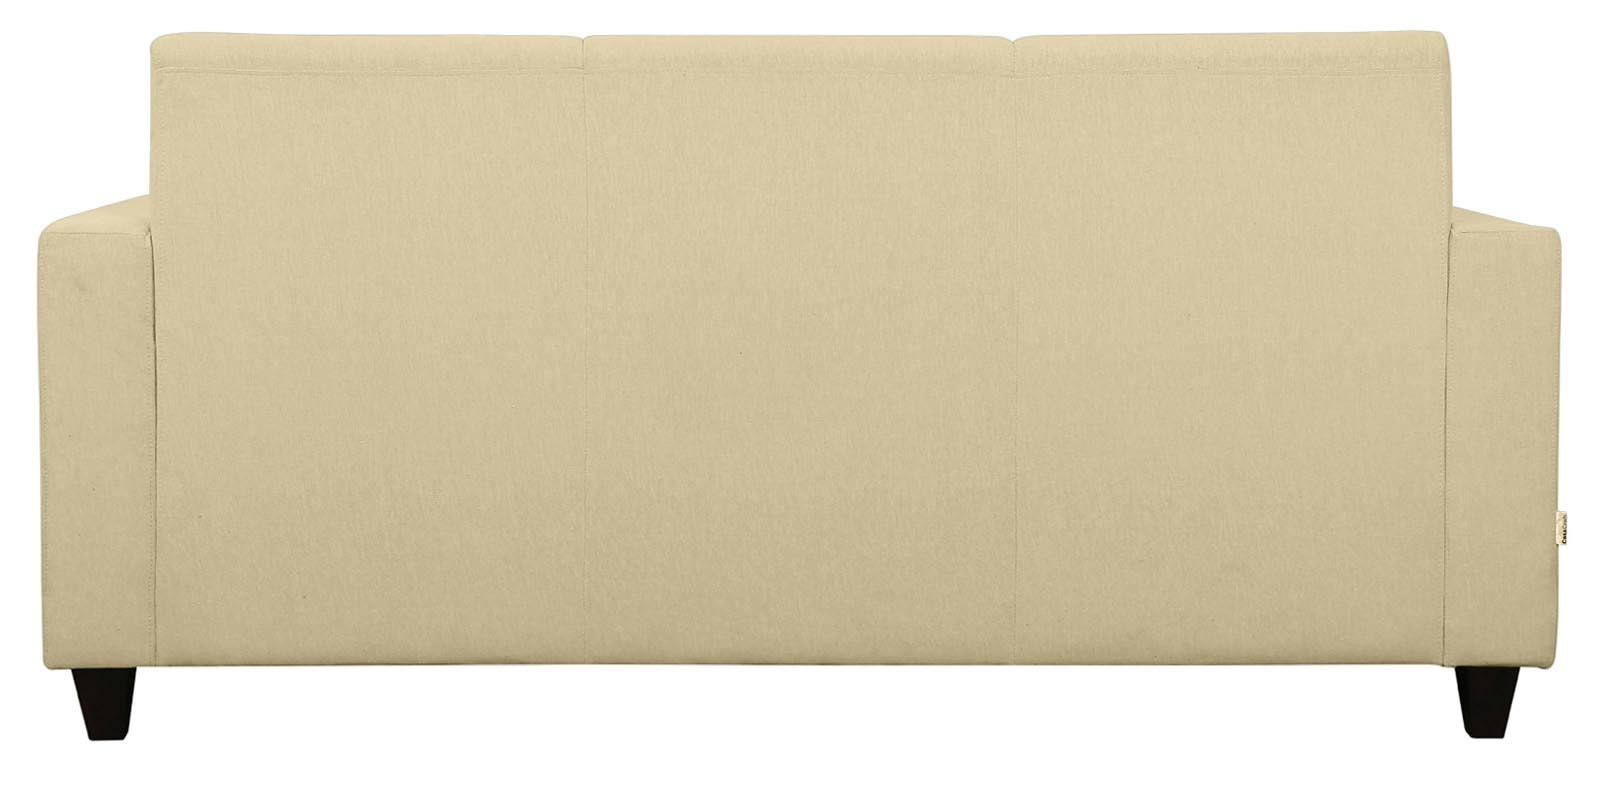Alba Three Seater Sofa in Beige Colour by CasaCraft: (31, 27, 1578, 745)
